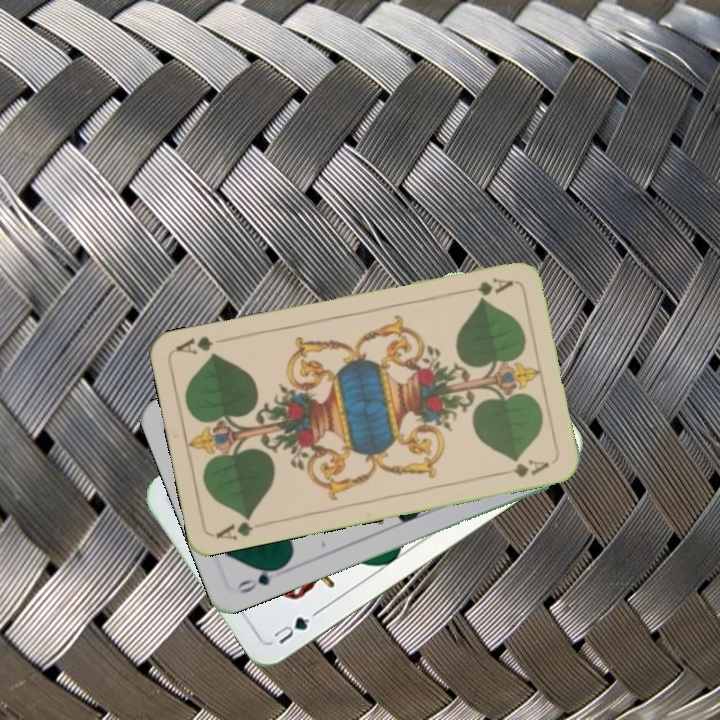GA: (211, 511, 257, 542), (472, 274, 516, 301)
GO: (232, 561, 287, 596)
GU: (267, 612, 313, 647)
